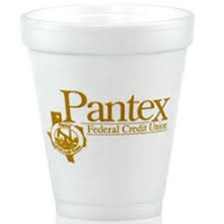paper_cup: (15, 0, 199, 224)
